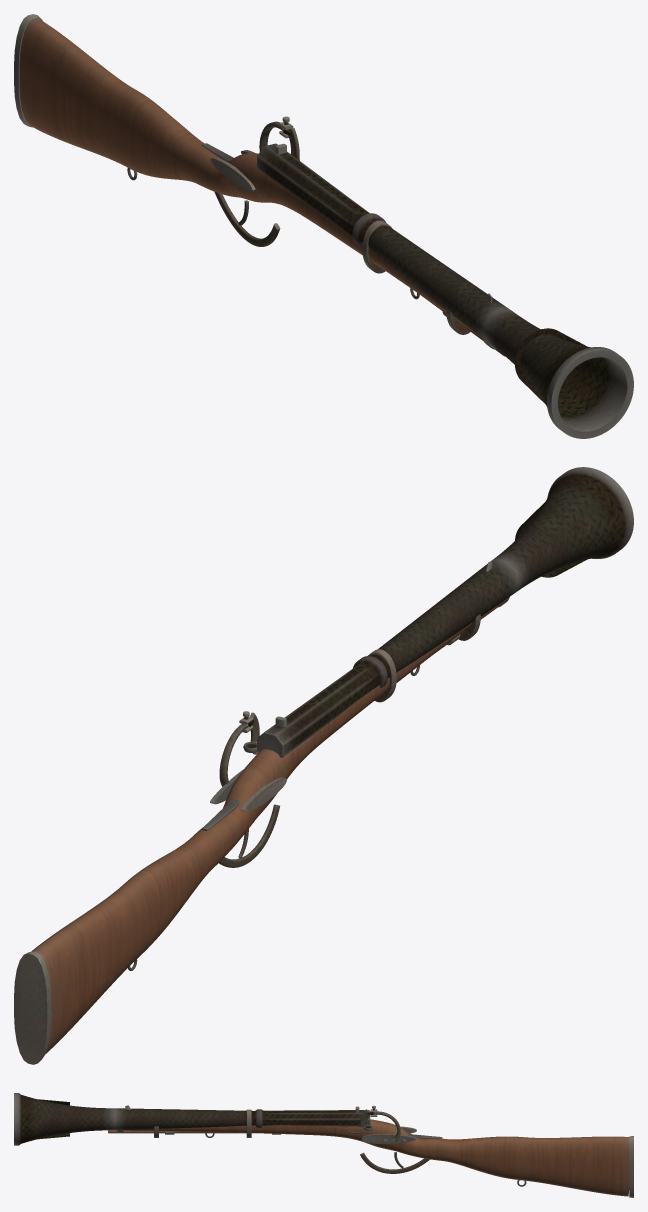
Rendered from blunderbuss.glb.
3 views of the same model, one above another, from view 1: azimuth 30°, elevation 25°; view 2: azimuth 150°, elevation 25°; view 3: azimuth 270°, elevation 25° (orthographic). The views are drawn at different scales.
Visible parts, largest first — view 1: blunderbuss_body, muzzle; view 2: blunderbuss_body, muzzle; view 3: blunderbuss_body, muzzle, hammer.
Boxes of the visible parts, x1=… form: blunderbuss_body: x1=14, y1=14, x2=509, y2=356; muzzle: x1=483, y1=308, x2=633, y2=438; blunderbuss_body: x1=14, y1=560, x2=517, y2=1064; muzzle: x1=490, y1=467, x2=633, y2=593; blunderbuss_body: x1=108, y1=1105, x2=633, y2=1197; muzzle: x1=14, y1=1093, x2=115, y2=1145; hammer: x1=367, y1=1105, x2=400, y2=1141.
Bounding box in the file's own units: 0.124 × 0.2648 × 1.46.
1 material, 1 textured.
